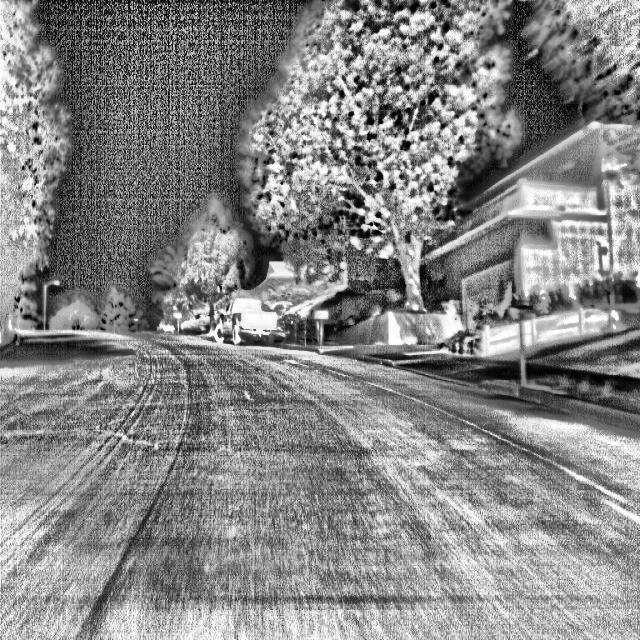car: (216, 292, 282, 358)
light: (36, 272, 80, 316)
mail box: (309, 306, 327, 334)
